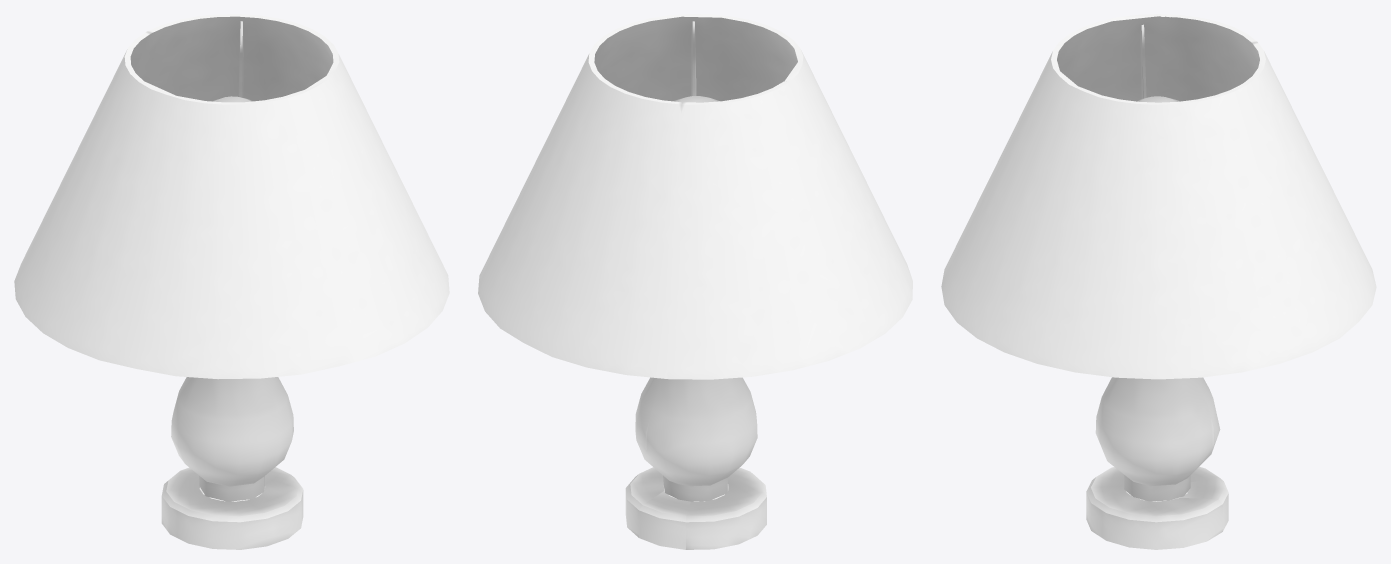
The model's file is TableLamp.glb.
3 views of the same model, side by side, from view 1: azimuth 30°, elevation 25°; view 2: azimuth 150°, elevation 25°; view 3: azimuth 270°, elevation 25° (orthographic).
Parts seen in each view (by area): view 1: TableLamp, TableLamp.001; view 2: TableLamp, TableLamp.001; view 3: TableLamp, TableLamp.001.
Part boxes in pixels (box(x1,y1,x2,y2)): TableLamp: box(14, 14, 449, 379); TableLamp.001: box(161, 21, 303, 549); TableLamp: box(478, 14, 912, 379); TableLamp.001: box(625, 21, 766, 549); TableLamp: box(941, 14, 1376, 379); TableLamp.001: box(1086, 24, 1228, 549).
Bounding box in the file's own units: 0.3322 × 0.3871 × 0.3314.
Materials: 1 (1 with a texture image).
